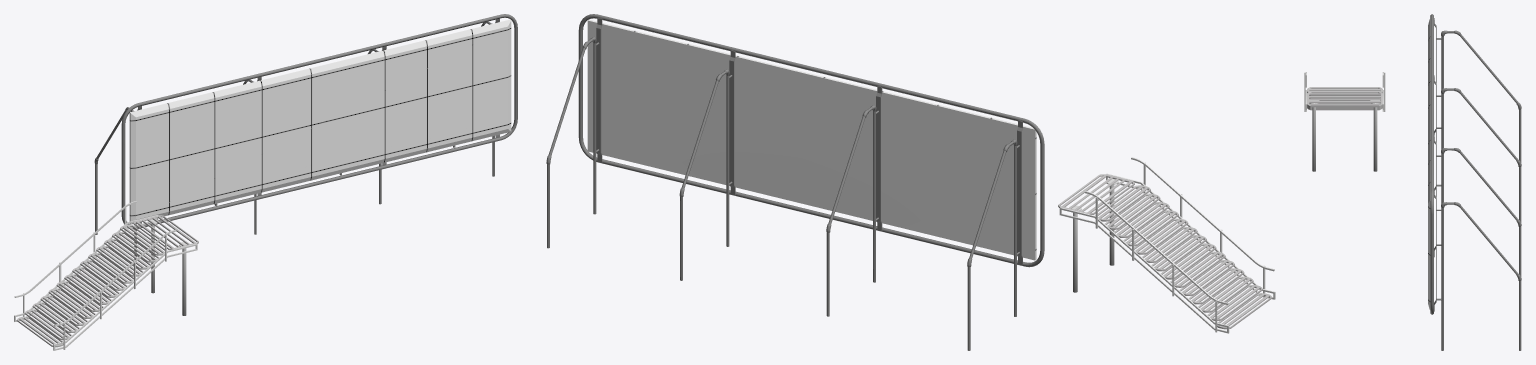
File: let_12.FBX
The picture shows the model from 3 angles, left to right: view 1: azimuth 30°, elevation 25°; view 2: azimuth 150°, elevation 25°; view 3: azimuth 270°, elevation 25°; orthographic projection. The views are drawn at different scales.
Visible parts, largest first — view 1: Rectangle006, Cylinder004; view 2: Rectangle006, Cylinder004; view 3: Rectangle006, Cylinder004.
Part boxes in pixels (<box>): Rectangle006: <box>94,14,517,259</box>; Cylinder004: <box>14,201,198,350</box>; Rectangle006: <box>546,14,1044,350</box>; Cylinder004: <box>1058,157,1275,333</box>; Rectangle006: <box>1428,14,1521,350</box>; Cylinder004: <box>1304,72,1385,171</box>.
Size of the model in its own units: 21.68 by 6.49 by 7.87.
